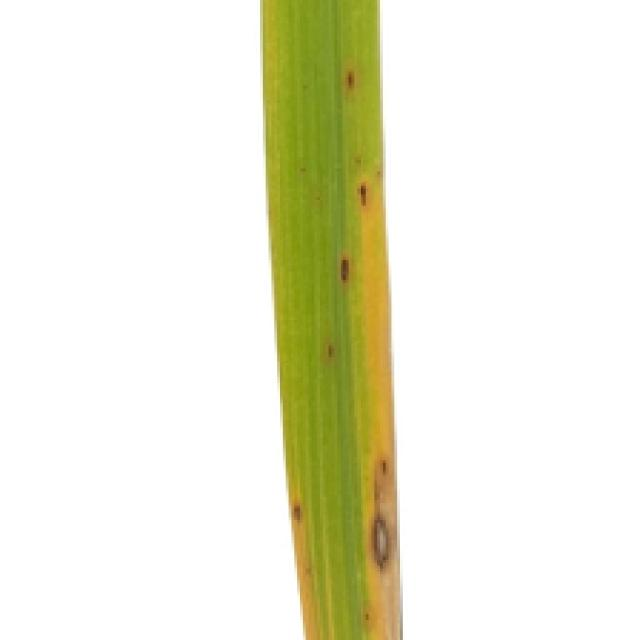Rice___Rice_Blast: (260, 0, 405, 637)
